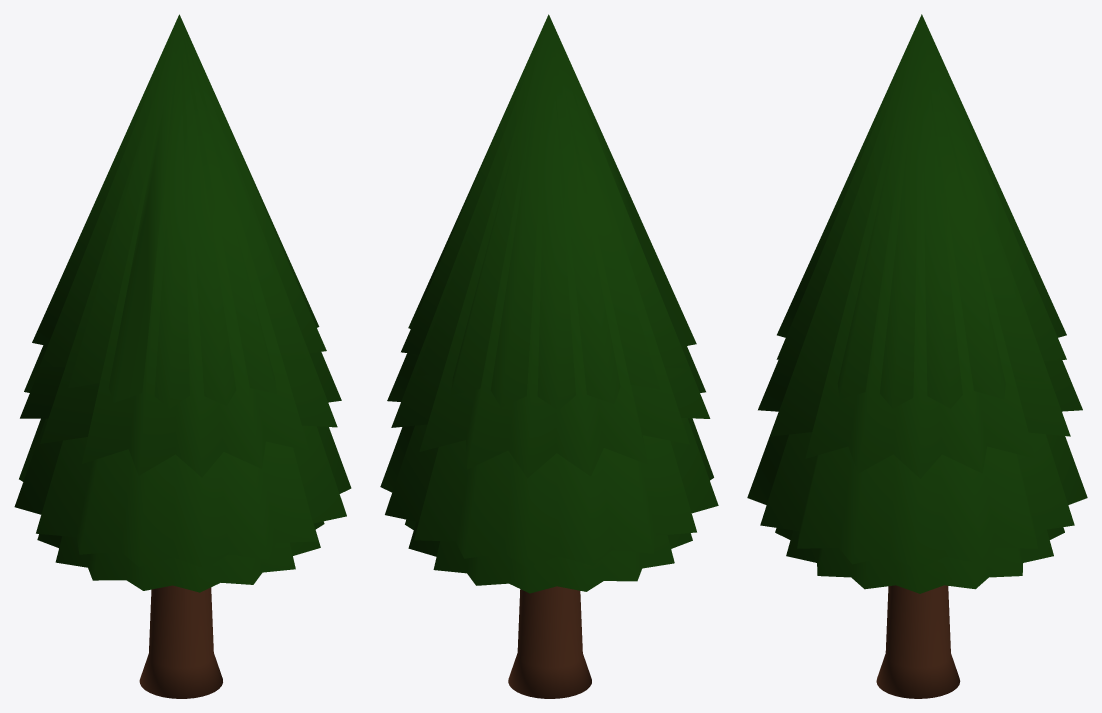
Rendered from Spruce.fbx.
3 renders of one model, left to right at view 1: azimuth 30°, elevation 25°; view 2: azimuth 150°, elevation 25°; view 3: azimuth 270°, elevation 25°, orthographic.
Visible parts, largest first — view 1: Cone; view 2: Cone; view 3: Cone.
Boxes of the visible parts, box(x1,y1,x2,y2) form: Cone: box(14, 14, 351, 698); Cone: box(380, 14, 718, 698); Cone: box(747, 14, 1087, 698).
Bounding box in the file's own units: 235 × 507 × 235.
